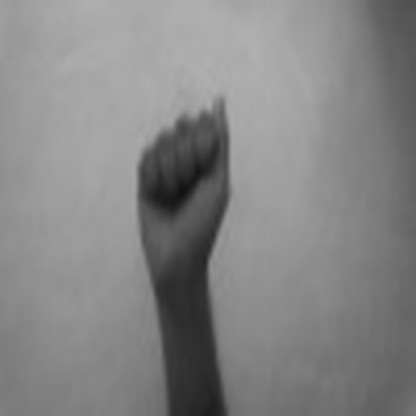a: (124, 84, 240, 284)
